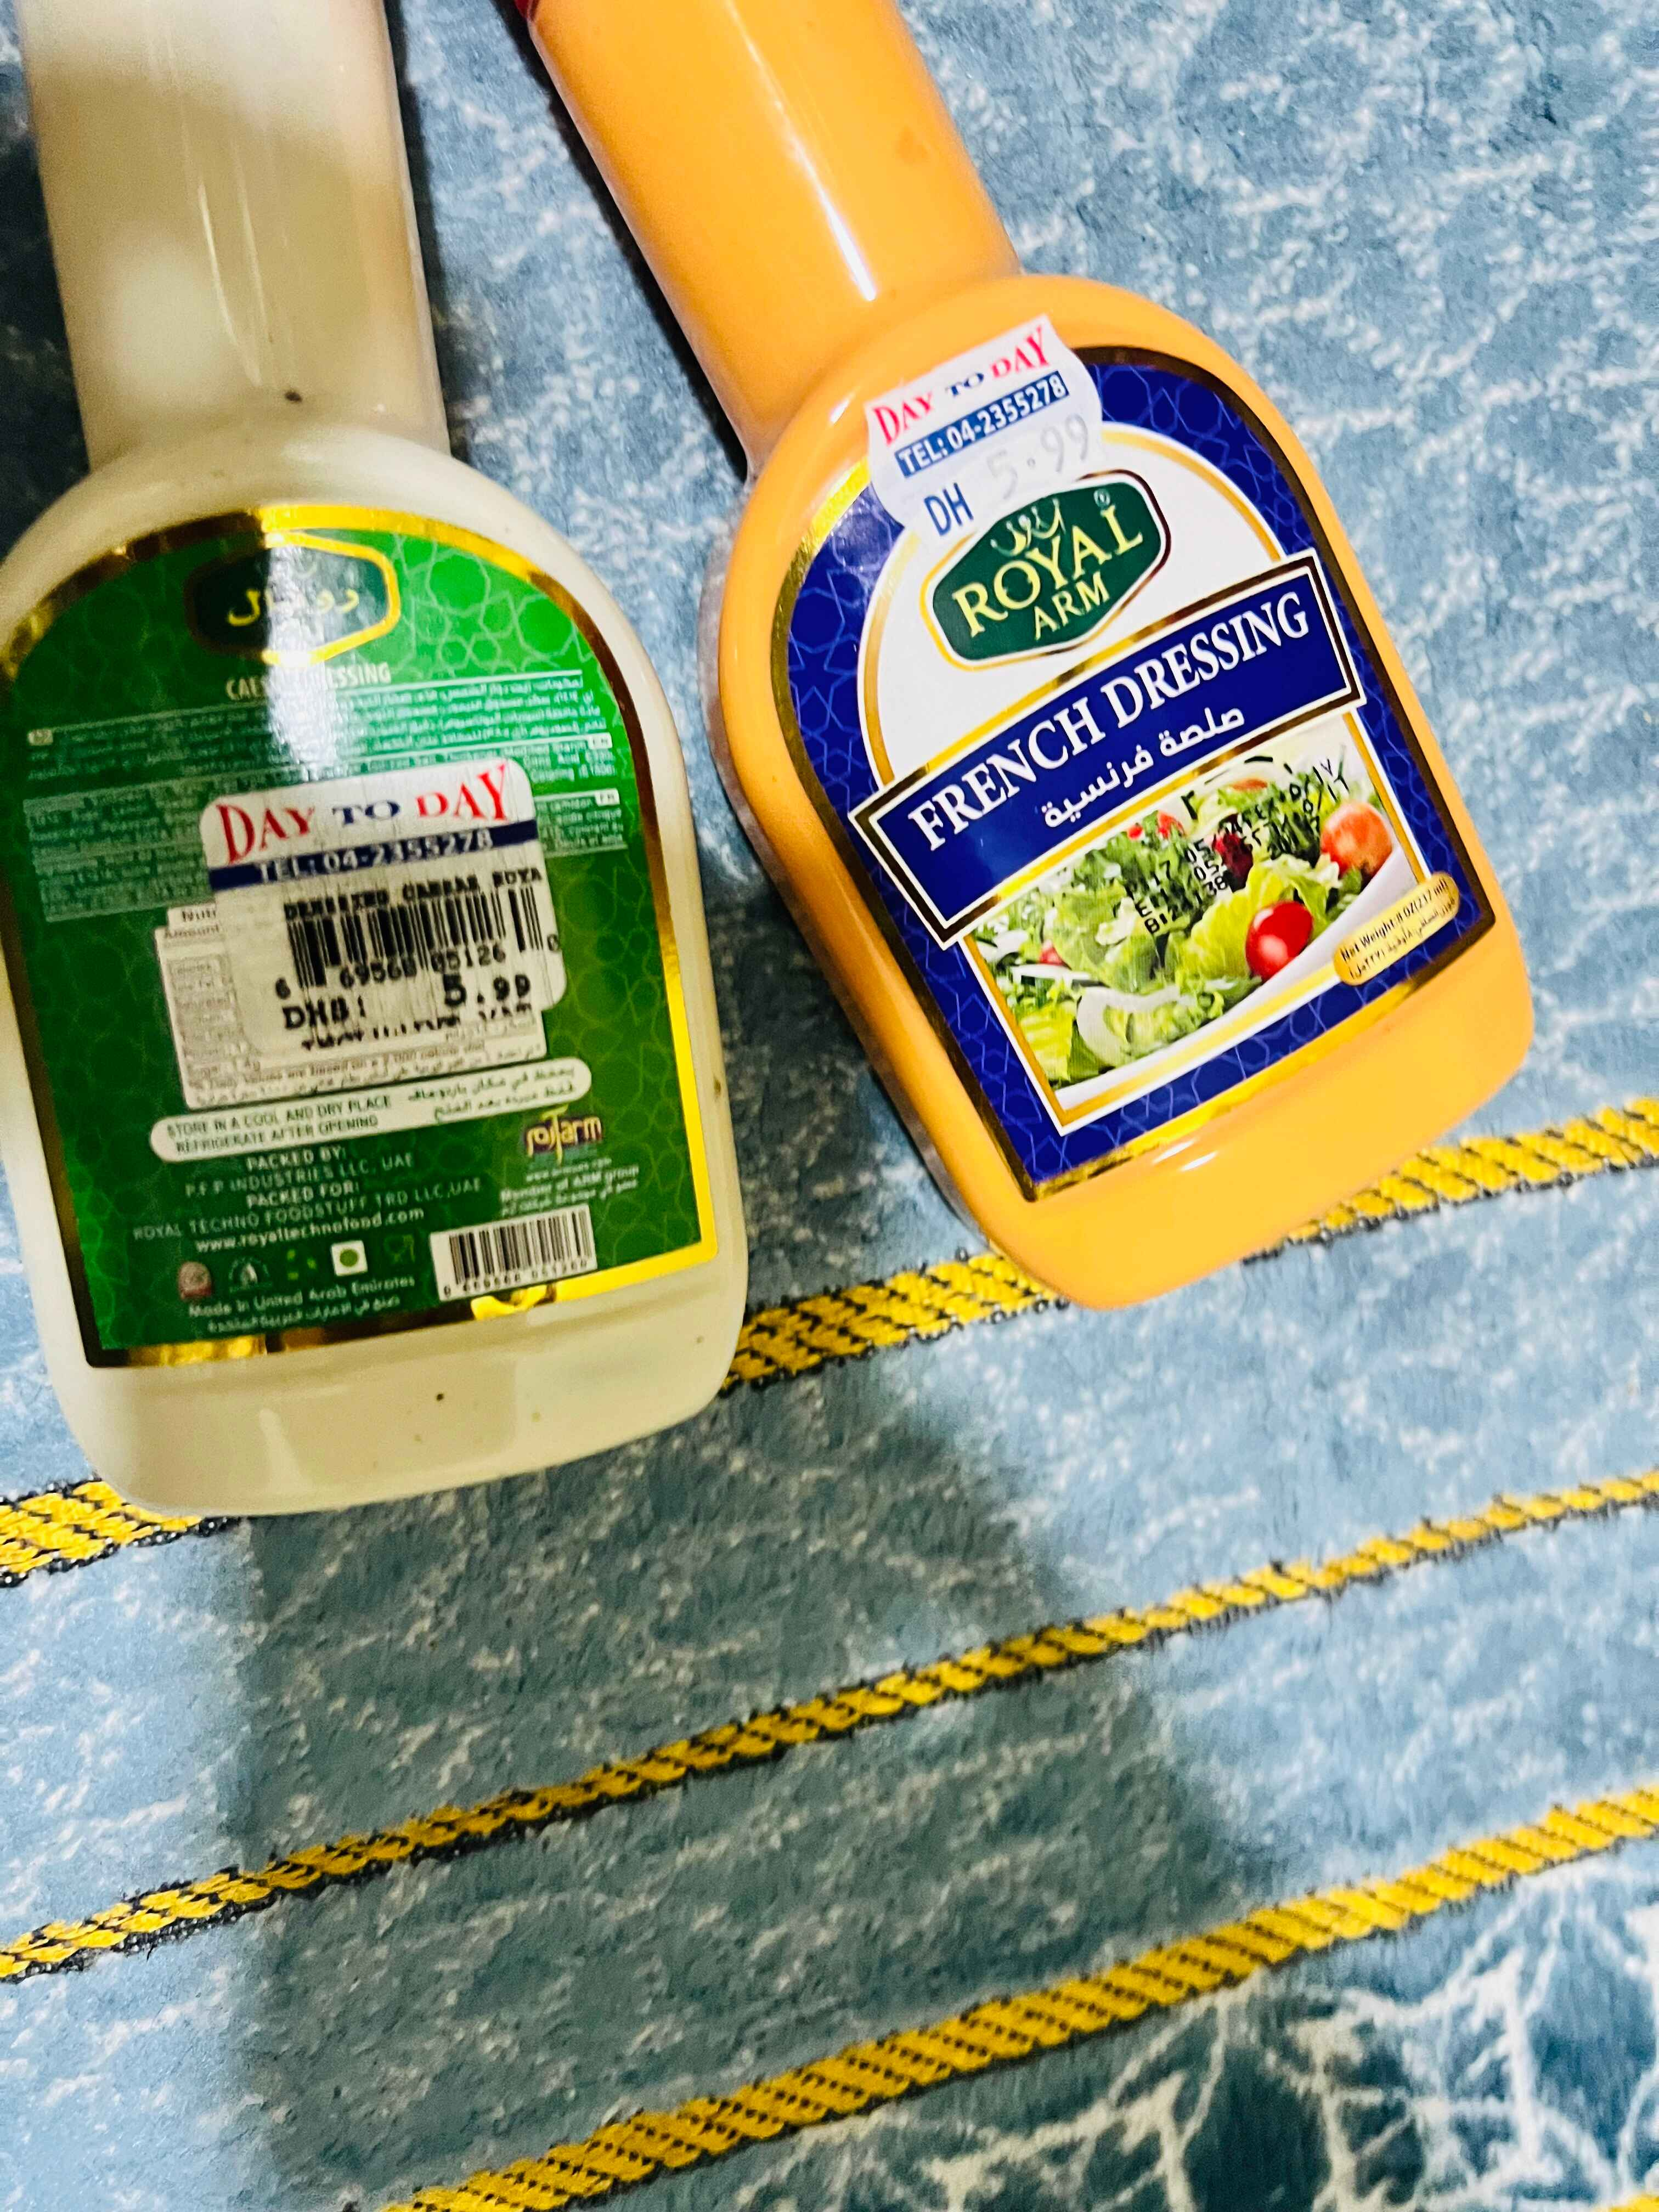PriceTagBig: (204, 759, 570, 1068)
PriceTagSmall: (870, 320, 1101, 547)
